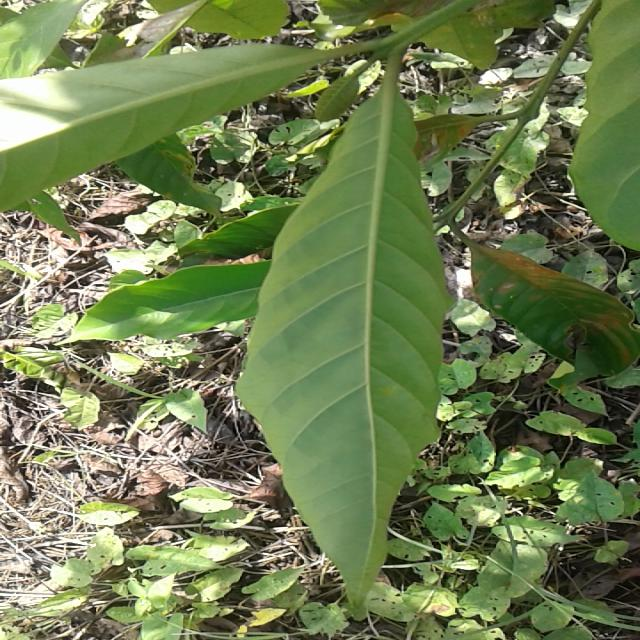Sanas: (243, 64, 453, 619)
